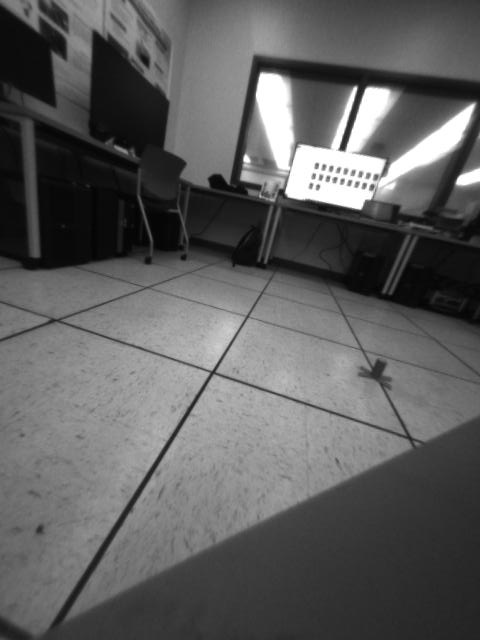X: (357, 352, 394, 391)
